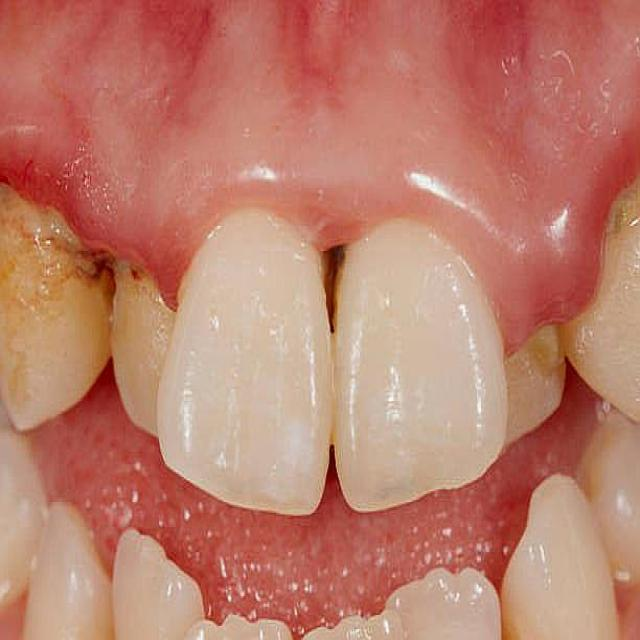caries: (297, 216, 357, 335)
